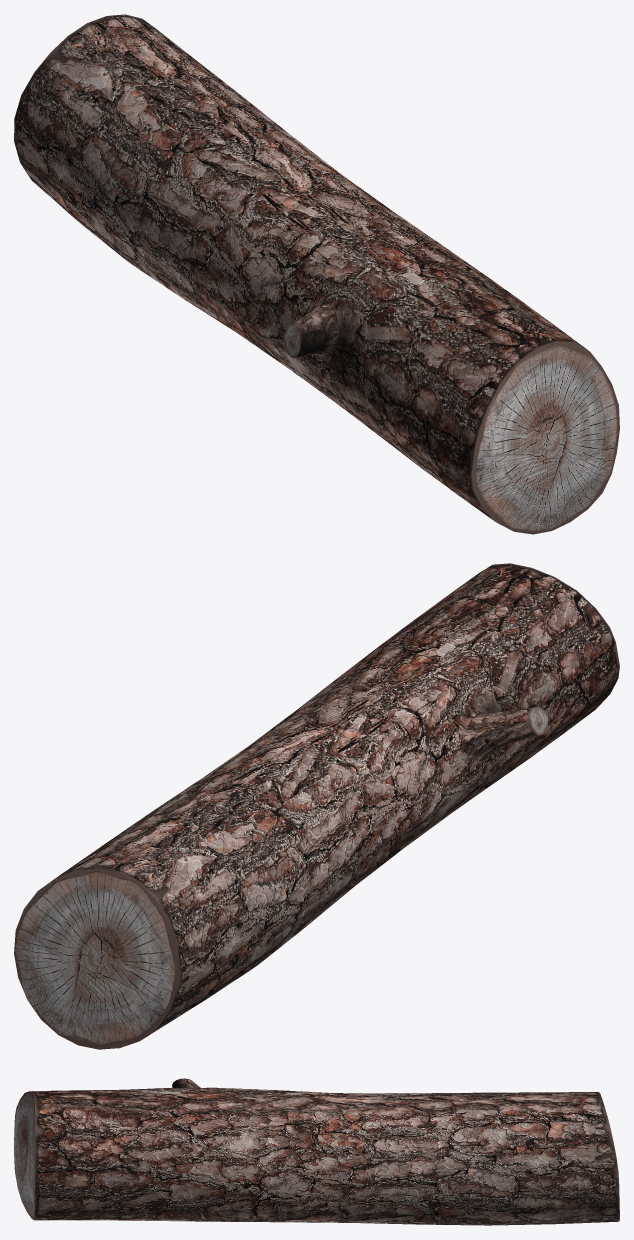
File: log1.obj
3 views of the same model, one above another, from view 1: azimuth 30°, elevation 25°; view 2: azimuth 150°, elevation 25°; view 3: azimuth 270°, elevation 25° (orthographic). The views are drawn at different scales.
Visible parts, largest first — view 1: log1; view 2: log1; view 3: log1.
Part boxes in pixels (x1=…): log1: x1=14, y1=14, x2=619, y2=534; log1: x1=14, y1=563, x2=619, y2=1049; log1: x1=14, y1=1078, x2=619, y2=1225.
Size of the model in its own units: 0.4873 by 0.3937 by 1.79.
Materials: 1 (1 with a texture image).
